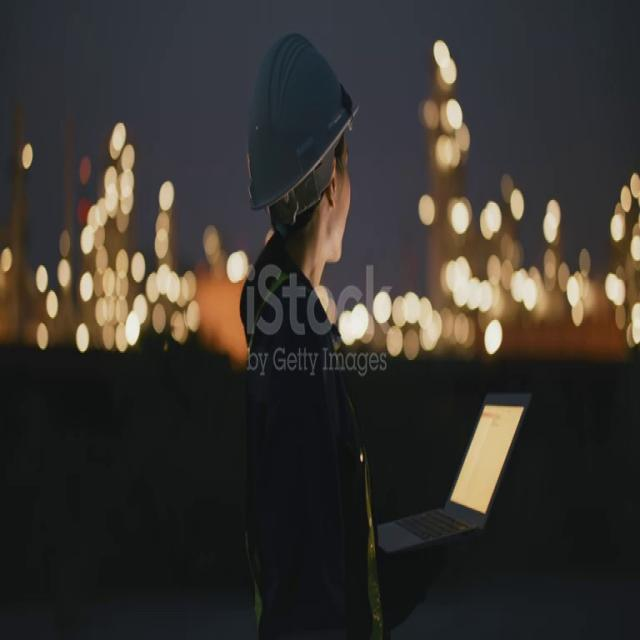capacete: (222, 24, 372, 241)
